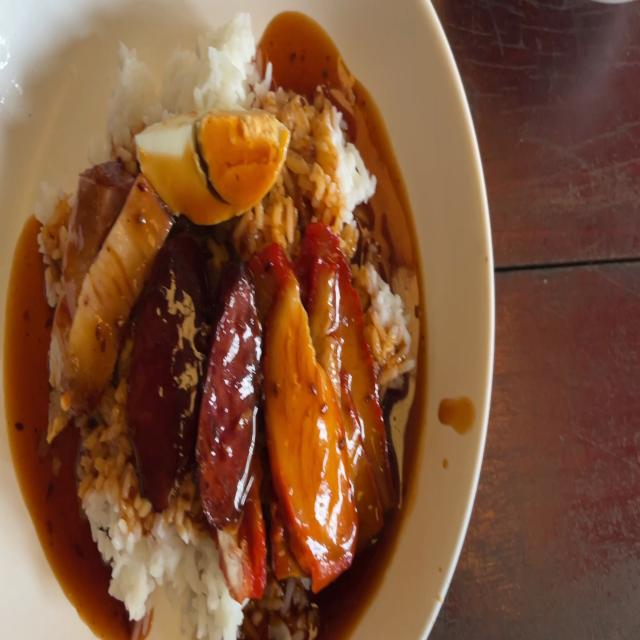01boiled_egg: (139, 115, 285, 205)
01chainese_sausage: (133, 250, 249, 498)
01crispy_pork: (47, 159, 159, 416)
01red_pork: (259, 235, 382, 551)
01red_pork_and_crispy_pork: (36, 9, 413, 640)
01rice: (123, 492, 218, 640), (104, 14, 262, 95), (292, 94, 362, 237), (92, 410, 137, 610)
